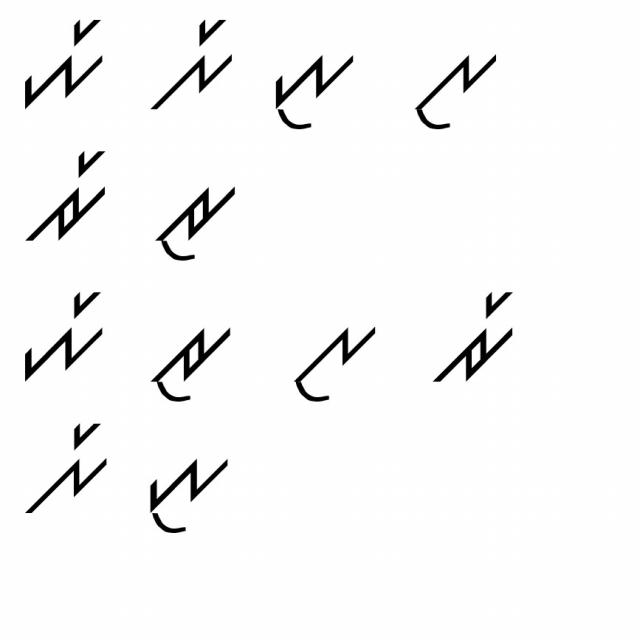lar: (26, 411, 112, 524), (151, 15, 235, 114)
law: (401, 40, 504, 133), (288, 313, 382, 409)
rar: (433, 282, 523, 388), (23, 149, 114, 242)
raw: (153, 172, 238, 272), (148, 316, 235, 410)
yar: (21, 279, 108, 381), (23, 15, 111, 110)
yaw: (250, 44, 360, 134), (141, 453, 241, 541)
